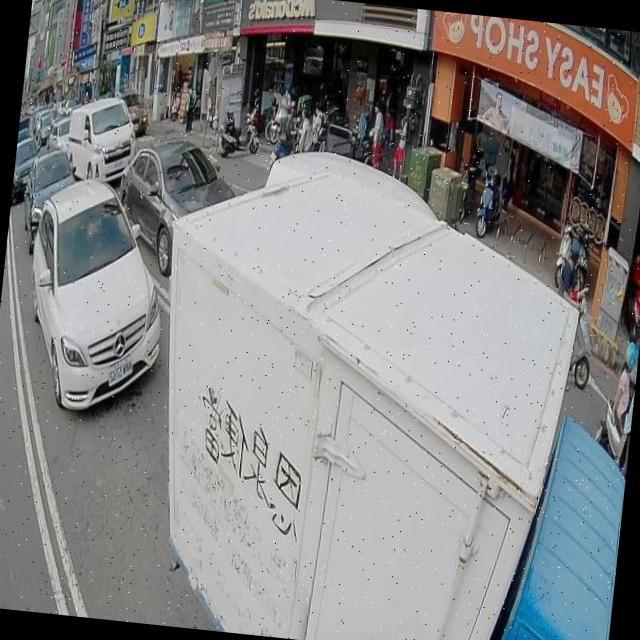person: (602, 336, 638, 465), (555, 238, 590, 300), (366, 101, 391, 169), (500, 137, 520, 214), (390, 109, 410, 180), (382, 84, 399, 152), (310, 100, 329, 154), (274, 82, 292, 138), (294, 105, 314, 154), (184, 84, 196, 133)
